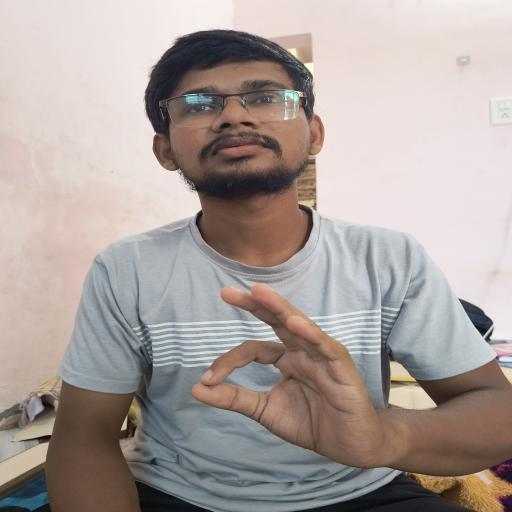Previous: (174, 275, 412, 477)
